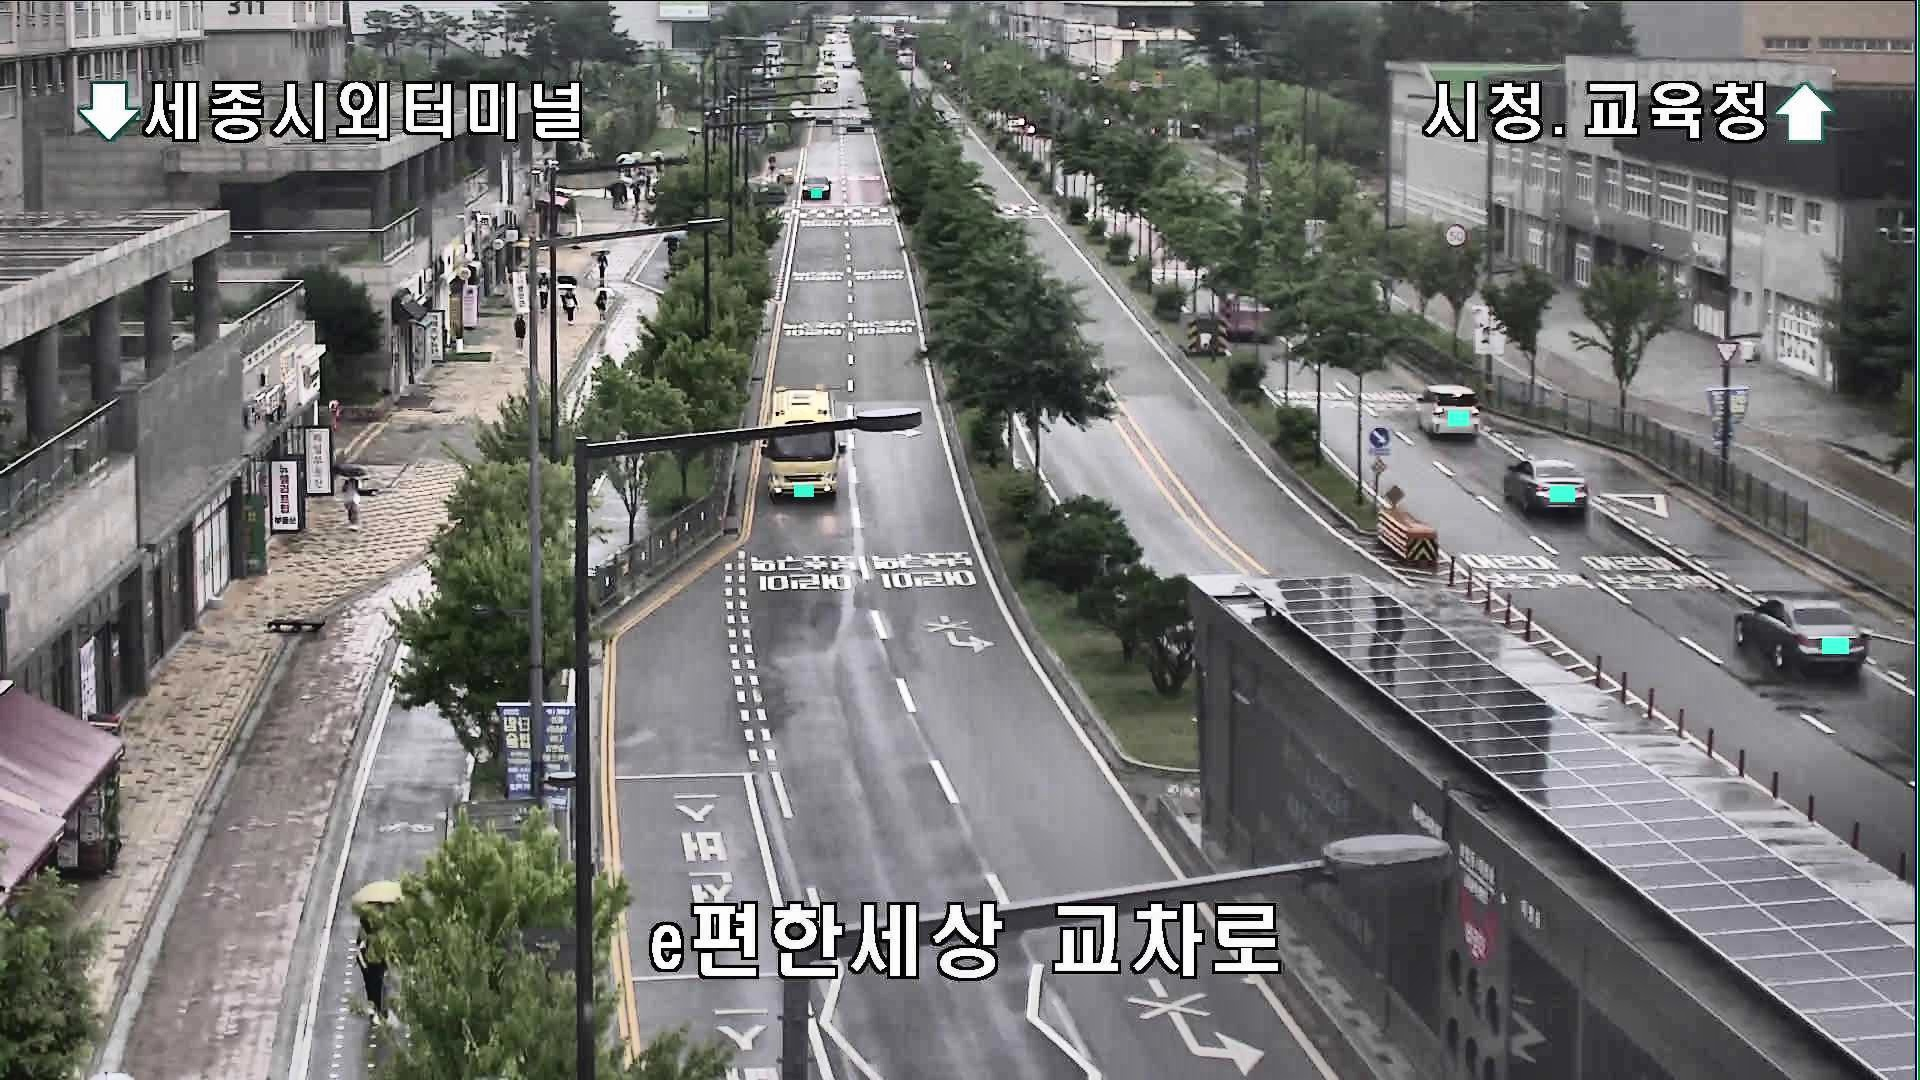um_sidewalk: (349, 880, 404, 1027), (327, 464, 367, 527), (534, 264, 556, 314), (554, 281, 578, 323), (513, 303, 531, 352), (593, 285, 615, 326), (591, 247, 612, 281)
